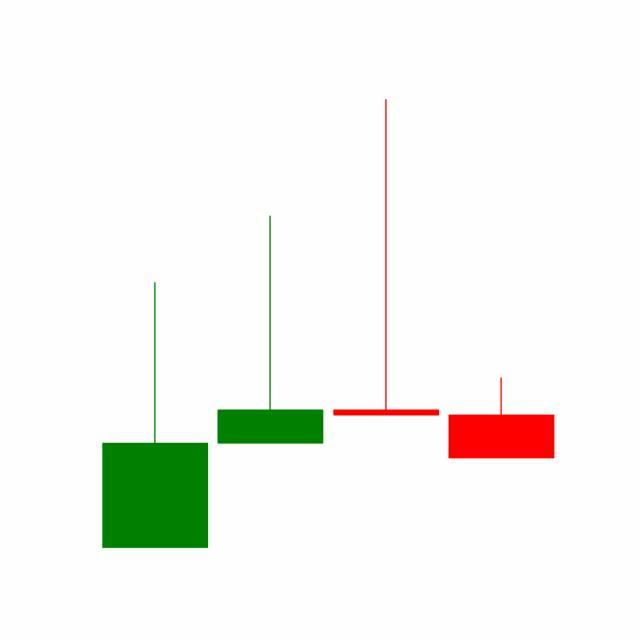Gravestone Doji: (329, 96, 445, 419)
